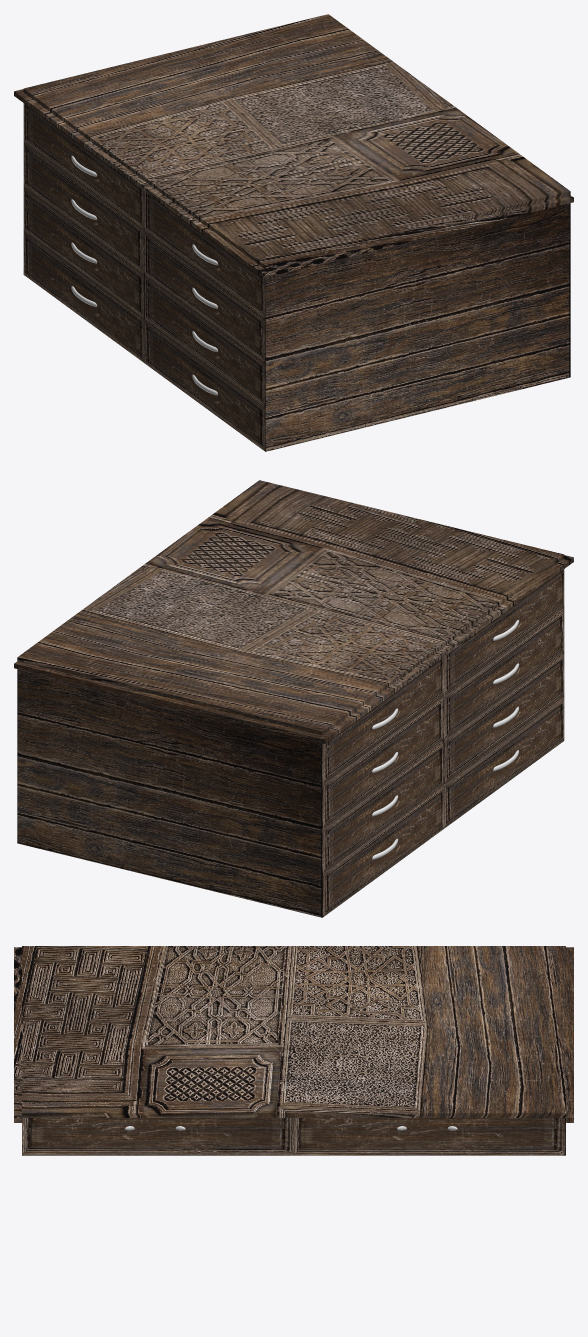
The picture shows the model from 3 angles, top to bottom: view 1: azimuth 30°, elevation 25°; view 2: azimuth 150°, elevation 25°; view 3: azimuth 270°, elevation 25°; orthographic projection. The views are drawn at different scales.
Visible parts, largest first — view 1: 서랍, 서랍 대리석, Box023; view 2: 서랍, 서랍 대리석, Box023; view 3: 서랍 대리석, 서랍.
Part boxes in pixels (bbox=[...]): 서랍: bbox=[23, 103, 570, 451]; 서랍 대리석: bbox=[14, 14, 573, 277]; Box023: bbox=[71, 155, 218, 395]; 서랍: bbox=[17, 569, 564, 917]; 서랍 대리석: bbox=[14, 480, 573, 743]; Box023: bbox=[372, 620, 519, 859]; 서랍 대리석: bbox=[14, 946, 573, 1122]; 서랍: bbox=[22, 1118, 565, 1155].
Size of the model in its own units: 73.12 by 41.83 by 101.
